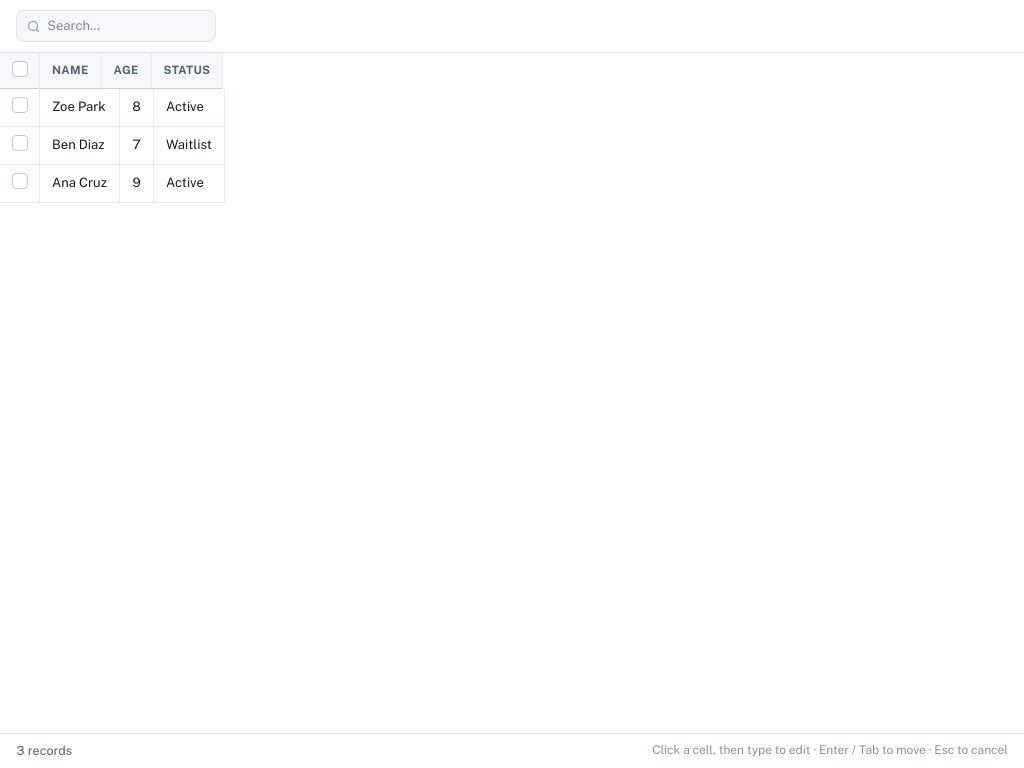
DataGrid › cancels an edit with Escape without committing
Double-click the text "Zoe Park".
double_click(79, 107)  # box [52, 99, 106, 114]
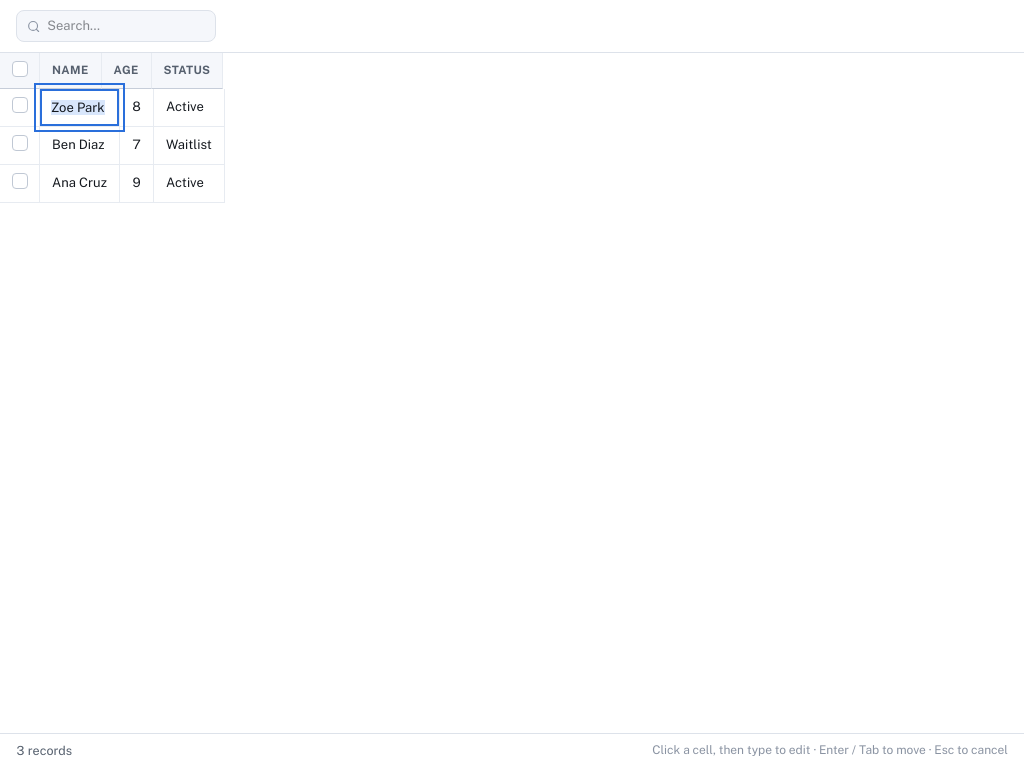
Replace the text in the field named "Name" with "Nope" at (79, 108), box [40, 89, 119, 126]
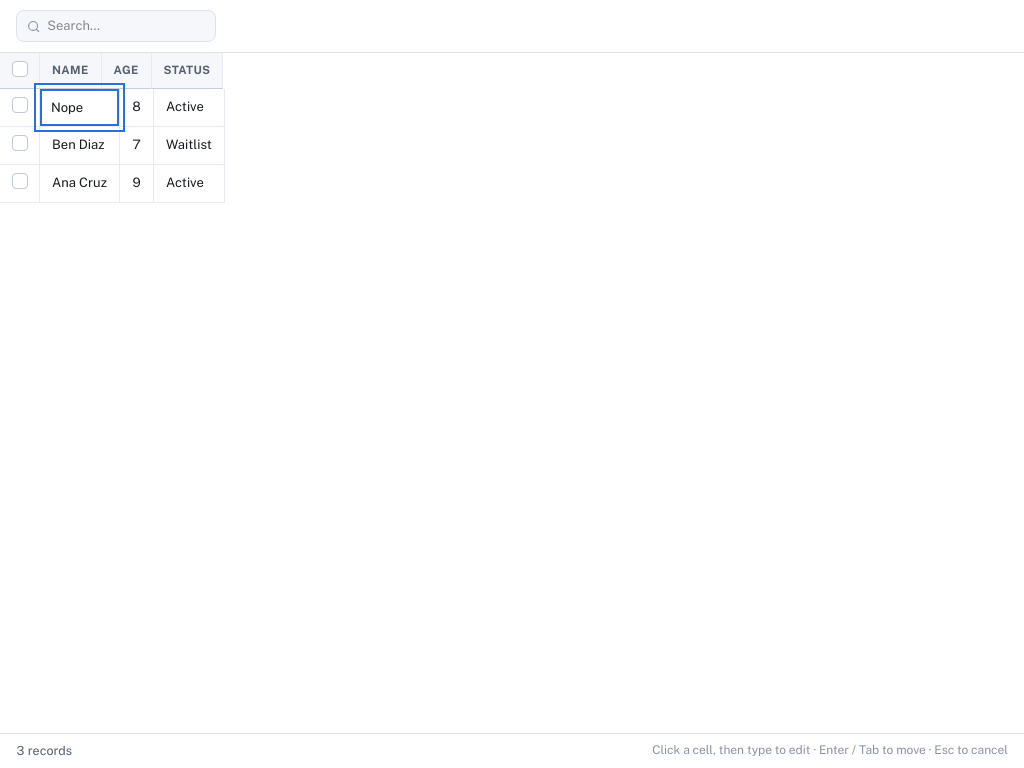
Press Escape in the field named "Name", box [40, 89, 119, 126]
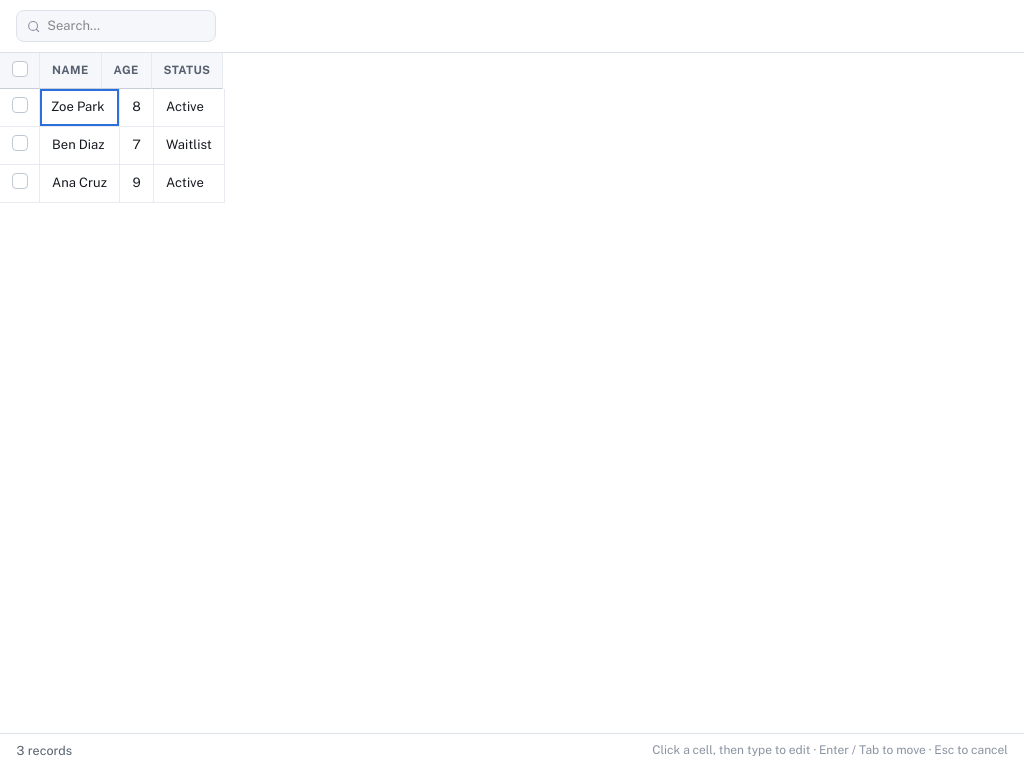
expect the text "Zoe Park" is shown: met, box [51, 99, 105, 114]
